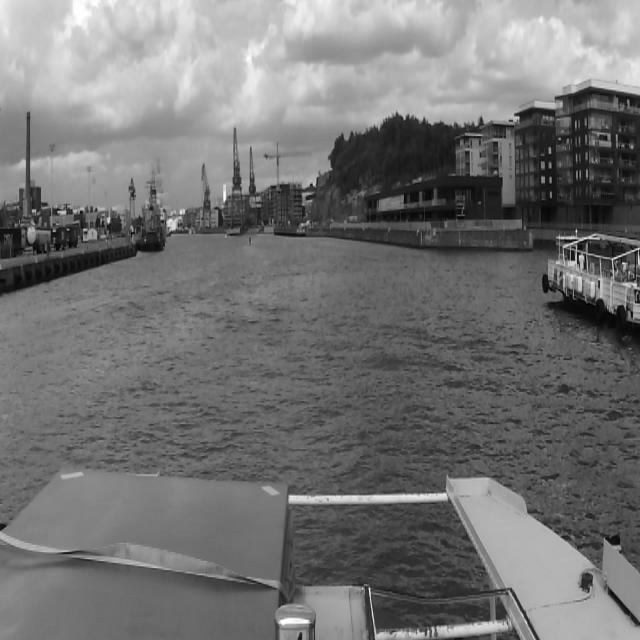ship: (539, 223, 640, 335), (138, 195, 167, 254), (188, 207, 196, 237), (222, 231, 228, 239), (248, 235, 252, 246)
